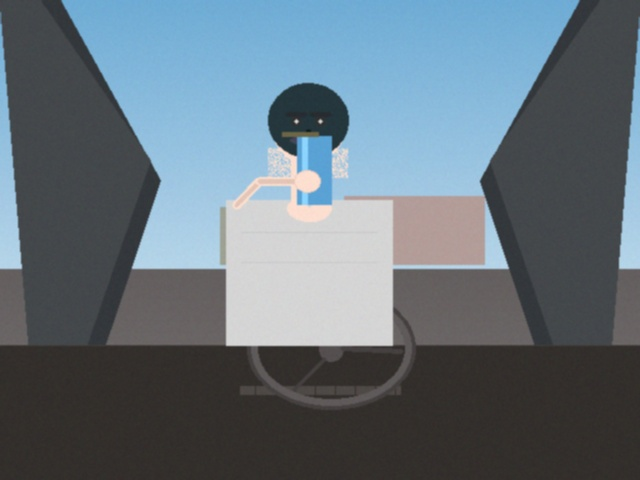drinking: (273, 122, 341, 214)
